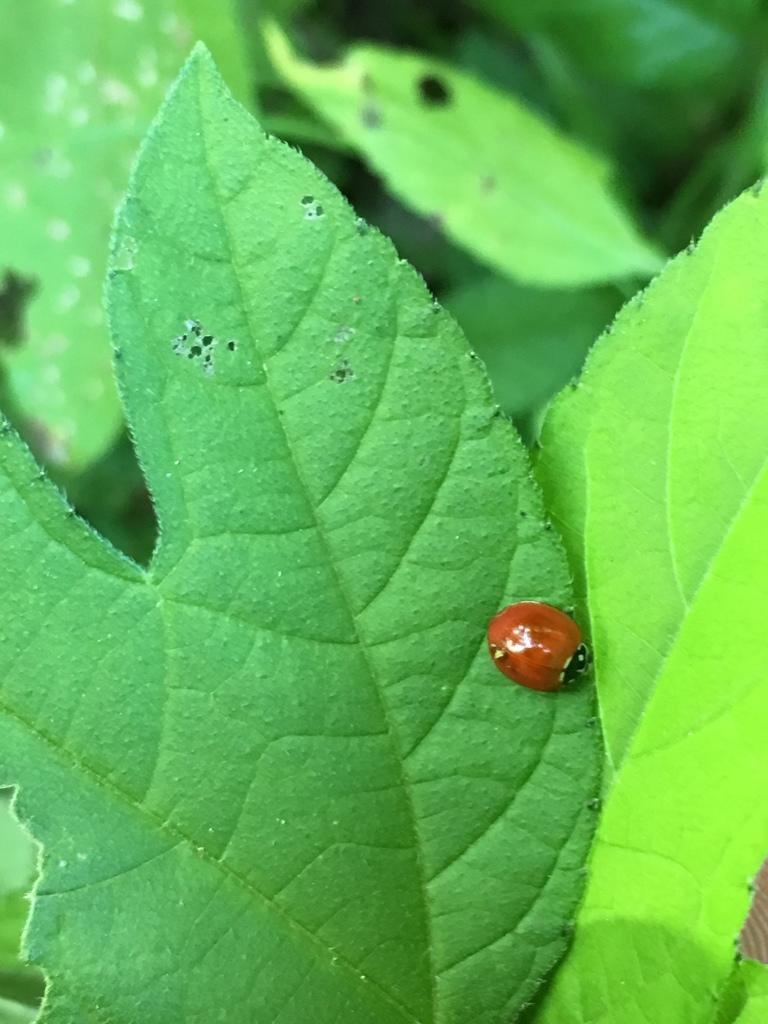ladybug: (484, 596, 599, 699)
